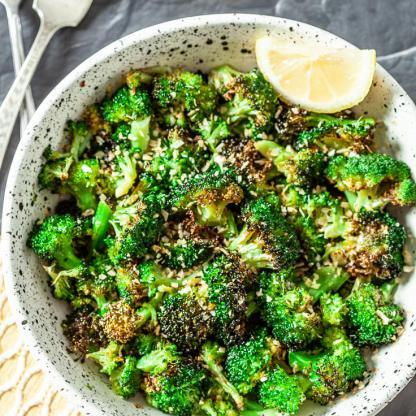broccoli: (26, 62, 416, 416)
